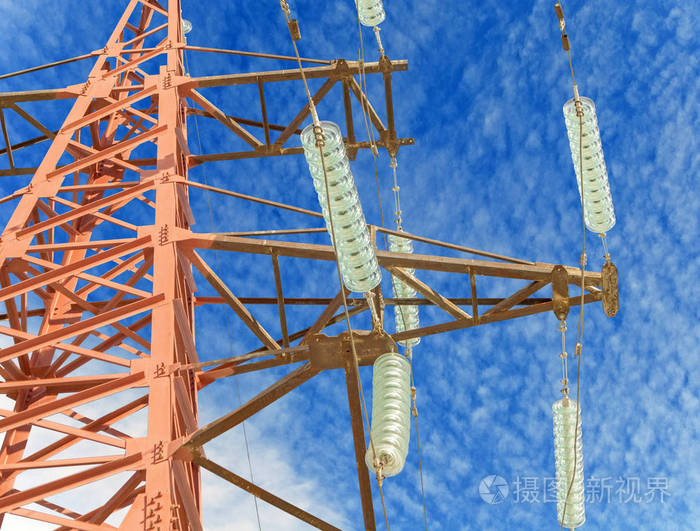insulator: (303, 121, 383, 291), (565, 96, 616, 231), (364, 354, 417, 474), (552, 400, 590, 528), (387, 231, 424, 345)
